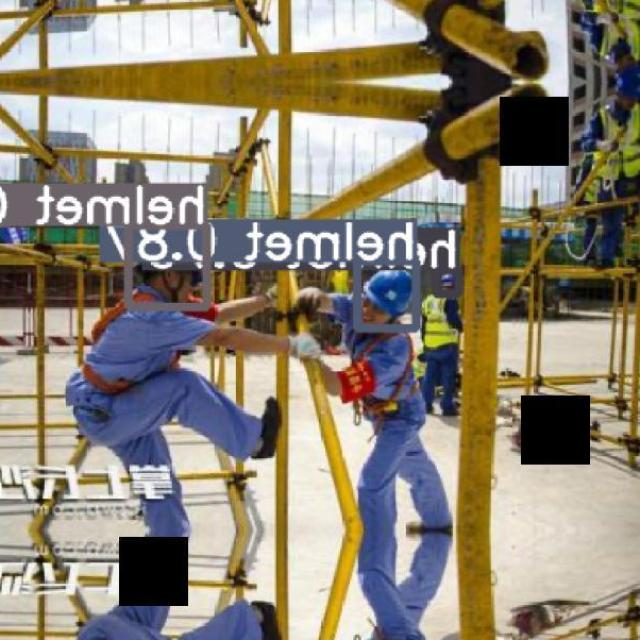helmet: (364, 268, 412, 316)
